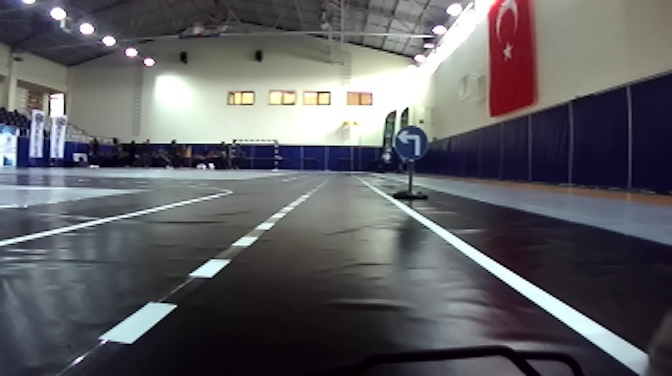sola_donus: (394, 121, 432, 160)
